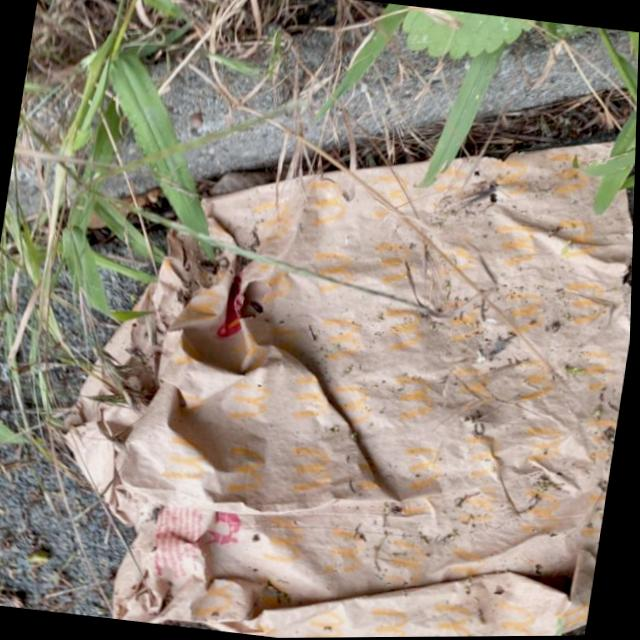Paper: (35, 74, 638, 640)
